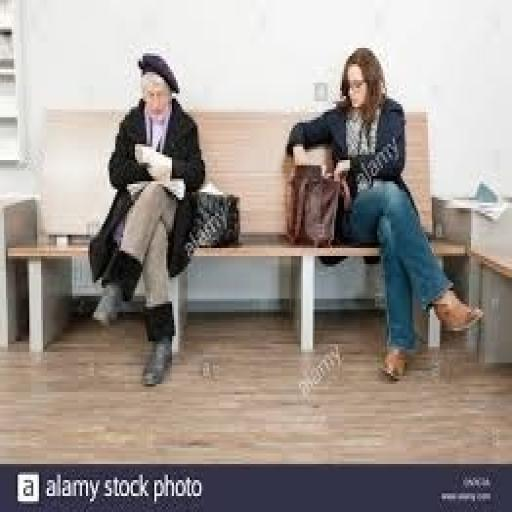sitting: (283, 43, 485, 381), (86, 48, 207, 387)
